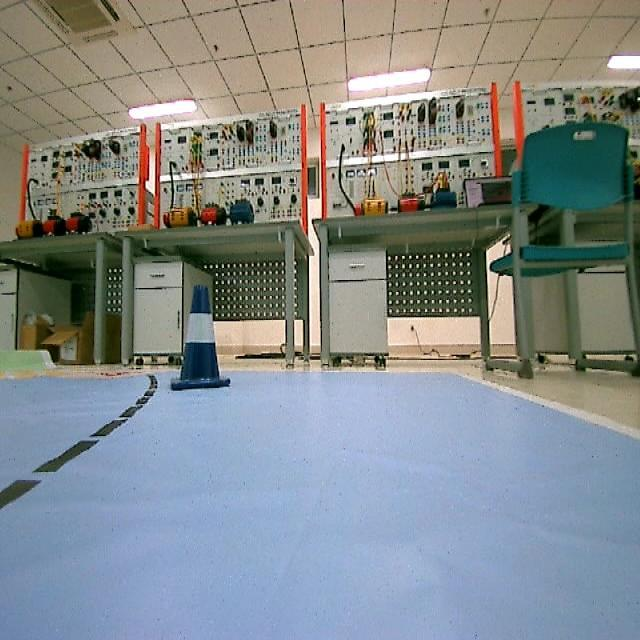obstacle: (163, 281, 236, 409)
